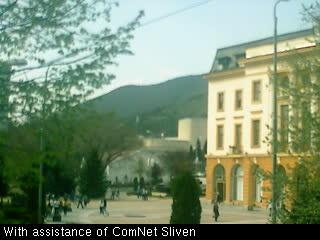person: (76, 192, 86, 210), (53, 196, 60, 217), (98, 198, 106, 216), (101, 198, 109, 215), (212, 202, 219, 221), (268, 197, 274, 217), (47, 192, 53, 212), (62, 192, 69, 208), (114, 187, 121, 201), (83, 193, 90, 207), (142, 186, 148, 201), (215, 191, 221, 204), (136, 185, 141, 199), (110, 187, 115, 200)
